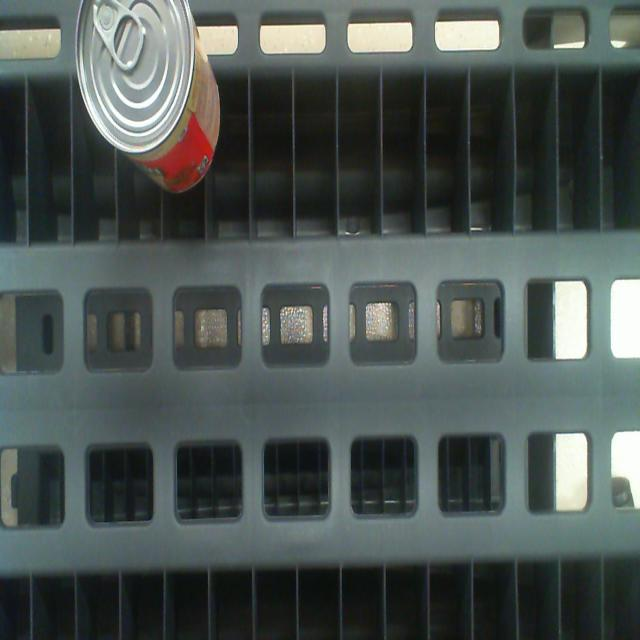can: (75, 0, 195, 153)
